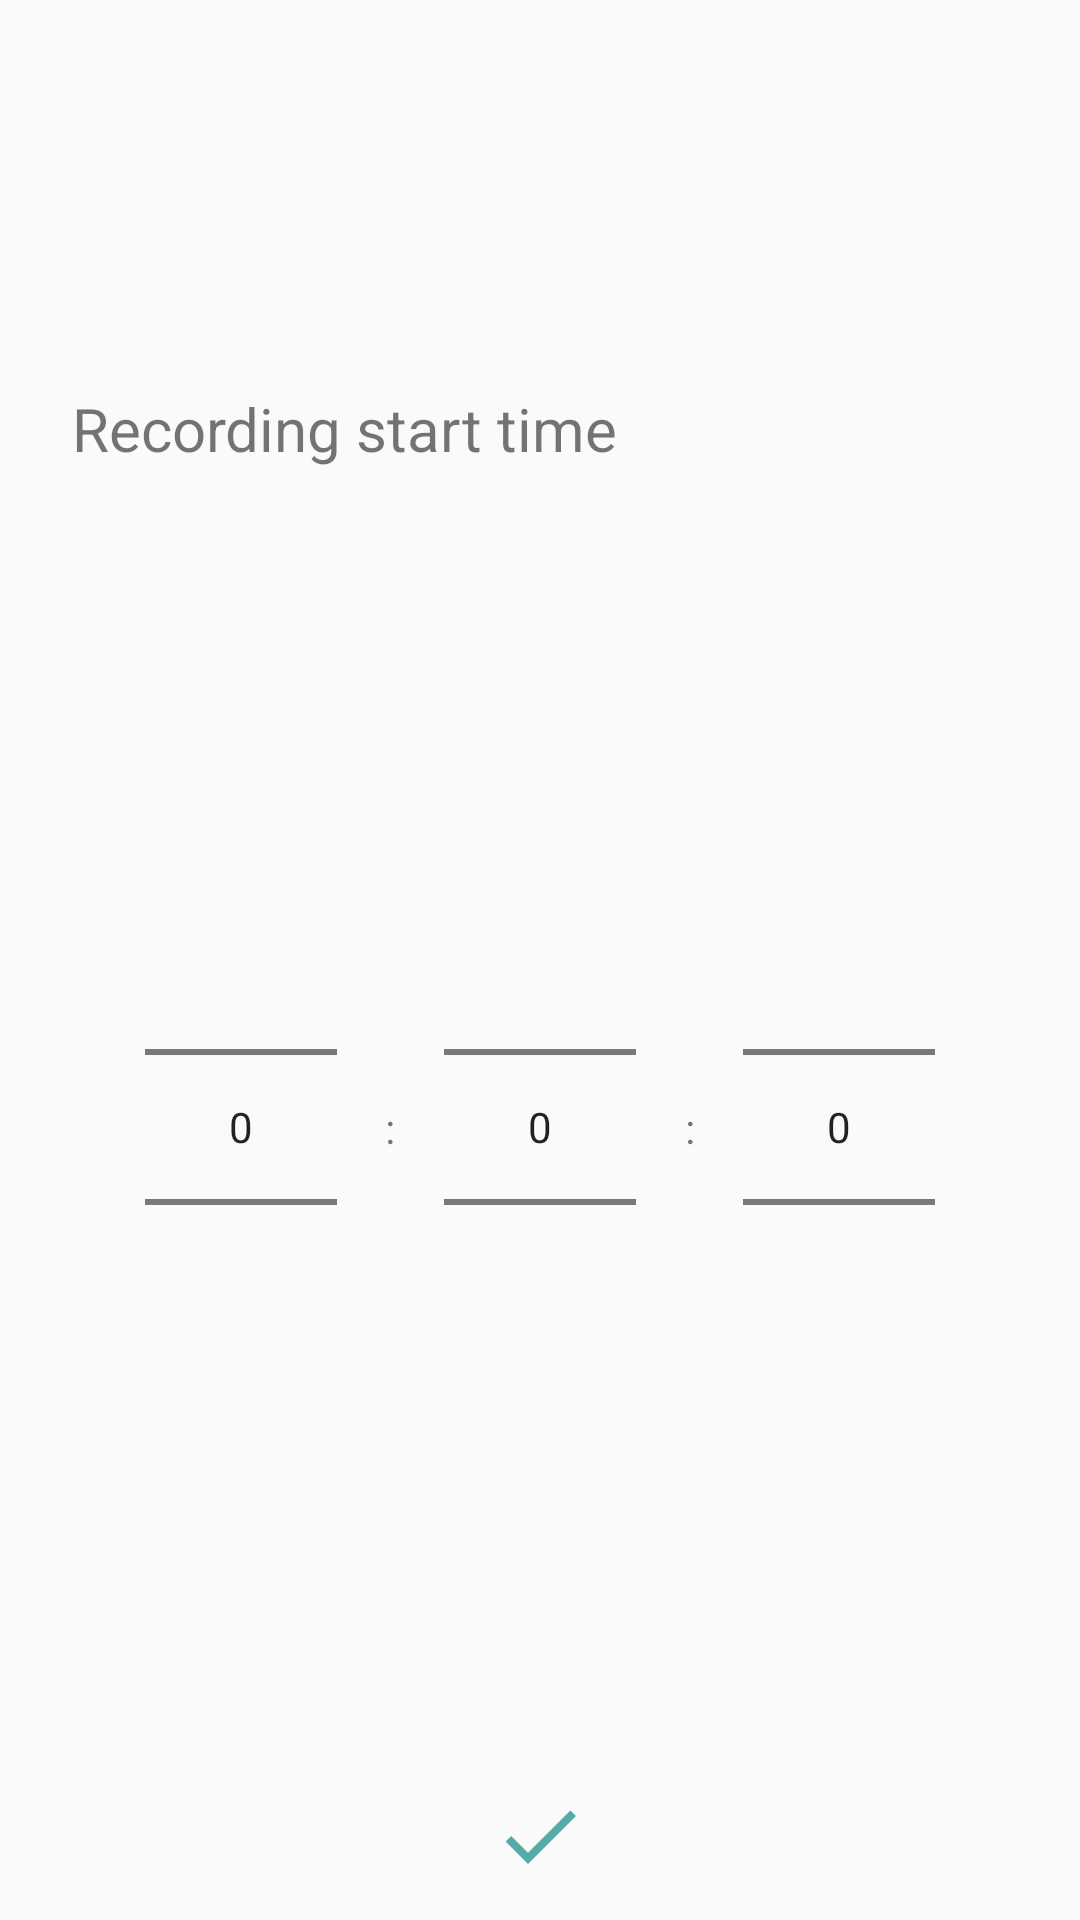

Named icons in this screenshot (1080 x 1920) and their centers, point (x, y):
check main: point (540, 1837)
